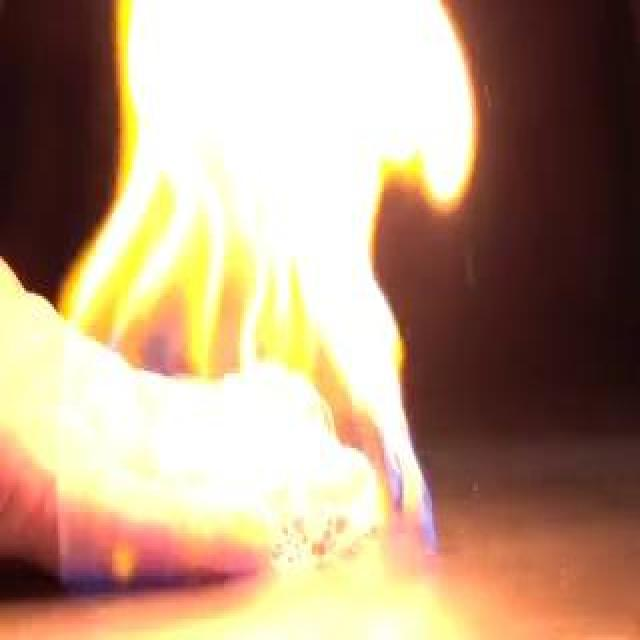Fire: (42, 1, 480, 580)
